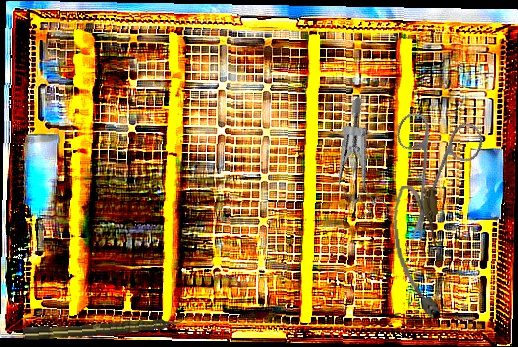Cannula: (389, 182, 449, 322)
Handpiece: (22, 315, 185, 342)
Iris Scissors: (354, 87, 513, 246)
Speculum: (302, 96, 427, 232)
